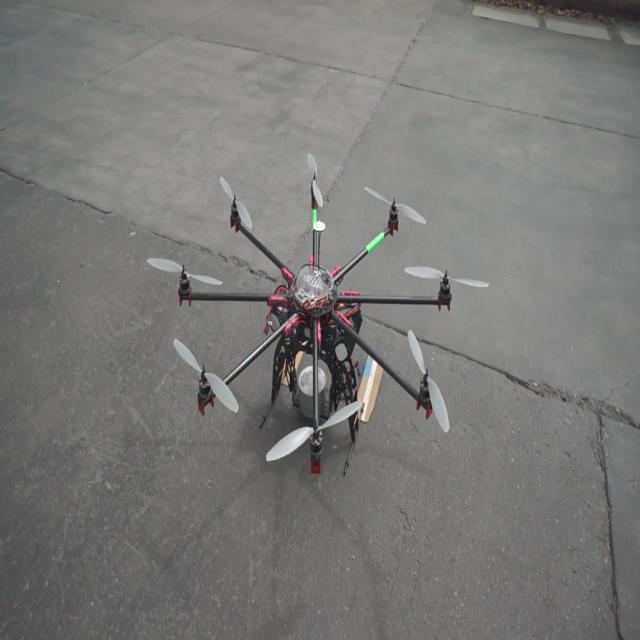drone: (150, 153, 458, 498)
